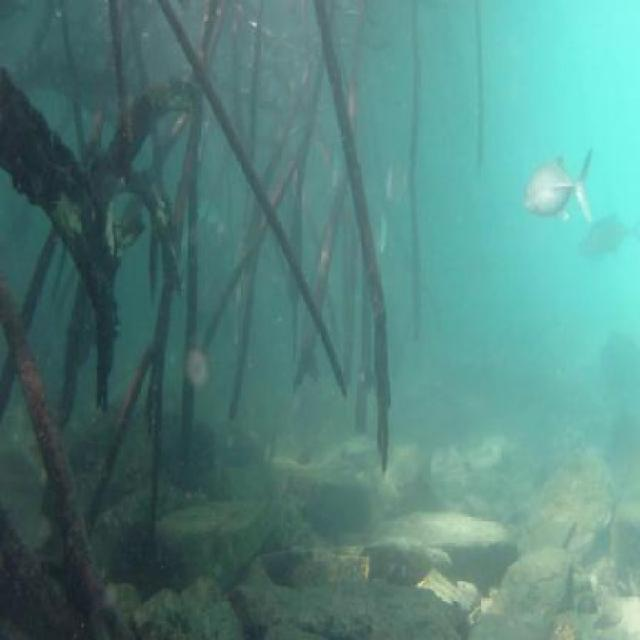Caranx_sexfasciatus_juvenile: (521, 142, 604, 229), (378, 137, 413, 200), (368, 203, 395, 271)
